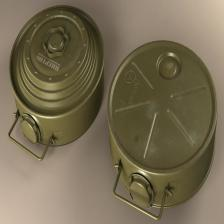TM-46: (113, 27, 216, 216), (7, 10, 99, 155)
